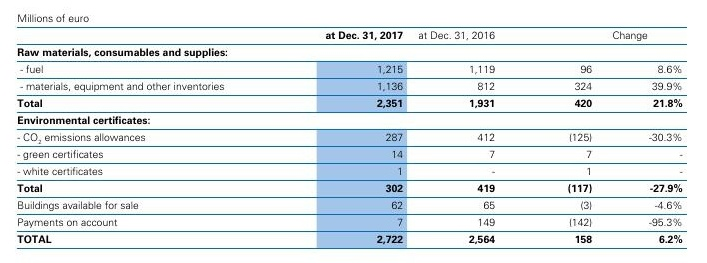table: (0, 0, 707, 263)
